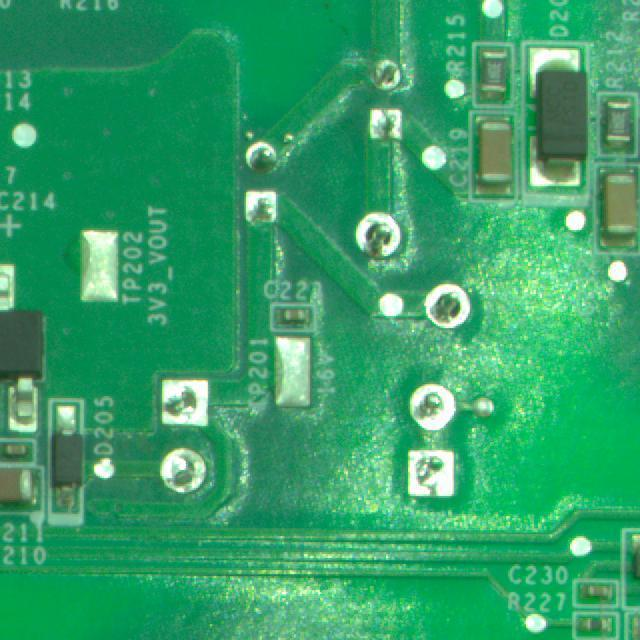Insufficient solder: (152, 372, 226, 436), (153, 444, 218, 505), (422, 278, 486, 336), (402, 446, 462, 507), (349, 206, 405, 267), (407, 379, 460, 438), (361, 51, 408, 94)
